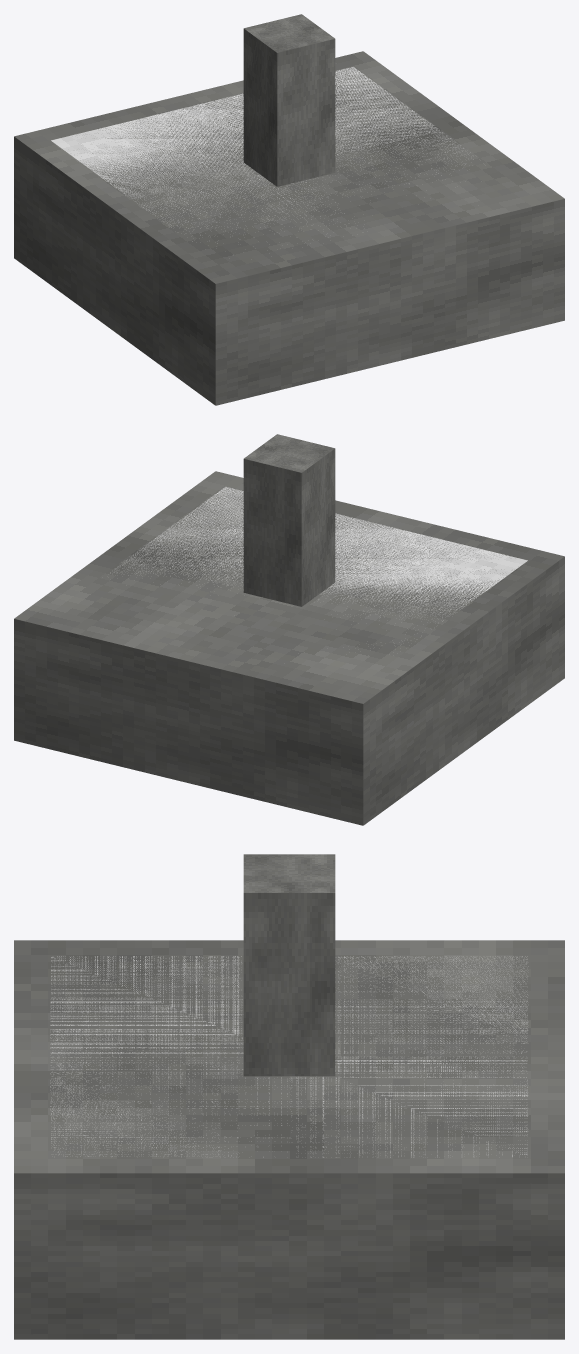
File: fountain.obj
The picture shows the model from 3 angles, top to bottom: view 1: azimuth 30°, elevation 25°; view 2: azimuth 150°, elevation 25°; view 3: azimuth 270°, elevation 25°; orthographic projection. The views are drawn at different scales.
Parts seen in each view (by area): view 1: part0, part2, part1; view 2: part0, part2, part1; view 3: part0, part1, part2.
Boxes of the visible parts, left/top/right/bottom form: part0: left=14, top=51, right=564, bottom=405; part2: left=51, top=67, right=473, bottom=243; part1: left=243, top=14, right=335, bottom=186; part0: left=14, top=471, right=564, bottom=825; part2: left=110, top=487, right=527, bottom=621; part1: left=243, top=434, right=335, bottom=606; part0: left=14, top=940, right=564, bottom=1339; part1: left=243, top=854, right=335, bottom=1076; part2: left=50, top=956, right=528, bottom=1157.
Size of the model in its own units: 1.5 by 1.05 by 1.5.
3 materials, 3 textured.
